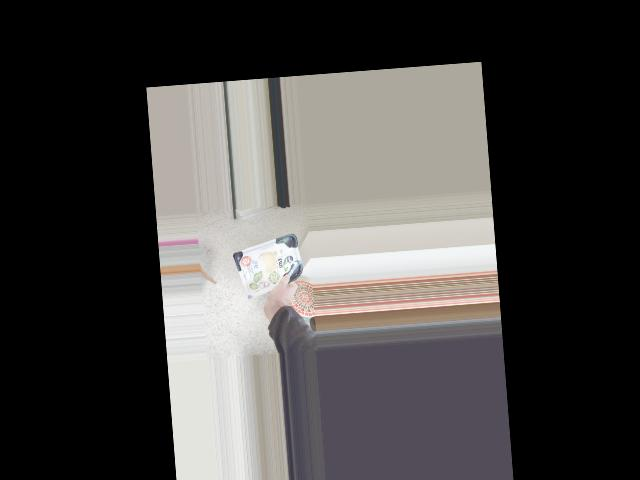cheese: (235, 232, 305, 299)
